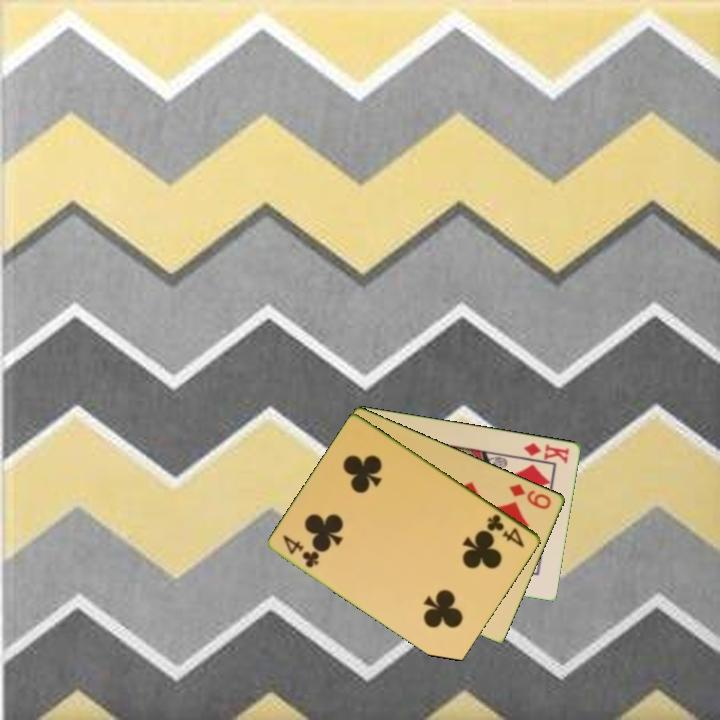4c: (483, 510, 528, 551), (279, 531, 323, 571)
9d: (506, 480, 555, 512)
Kd: (520, 439, 572, 466)
